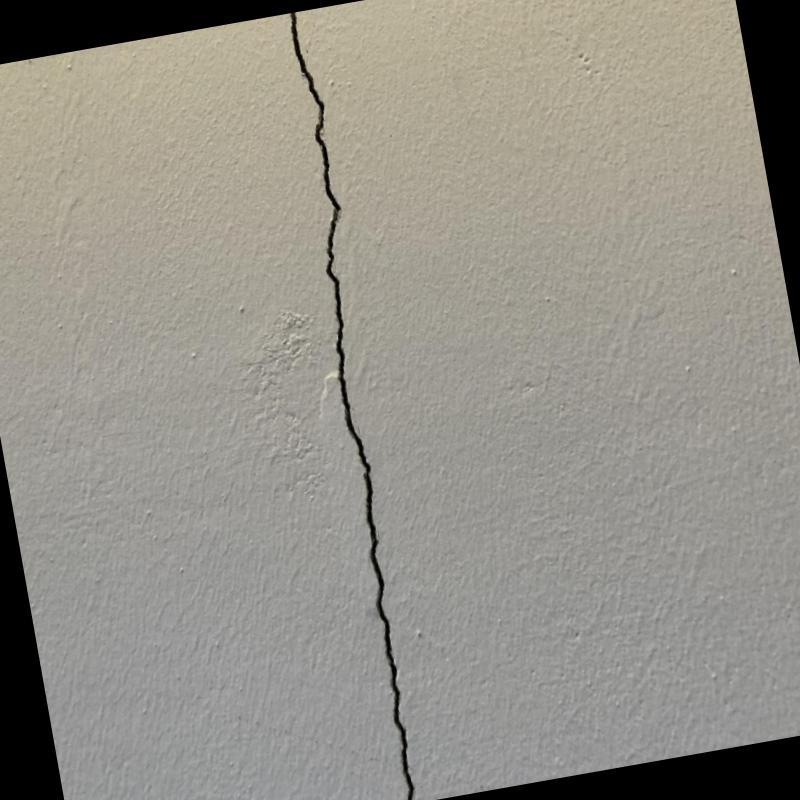crack: (291, 14, 415, 800)
